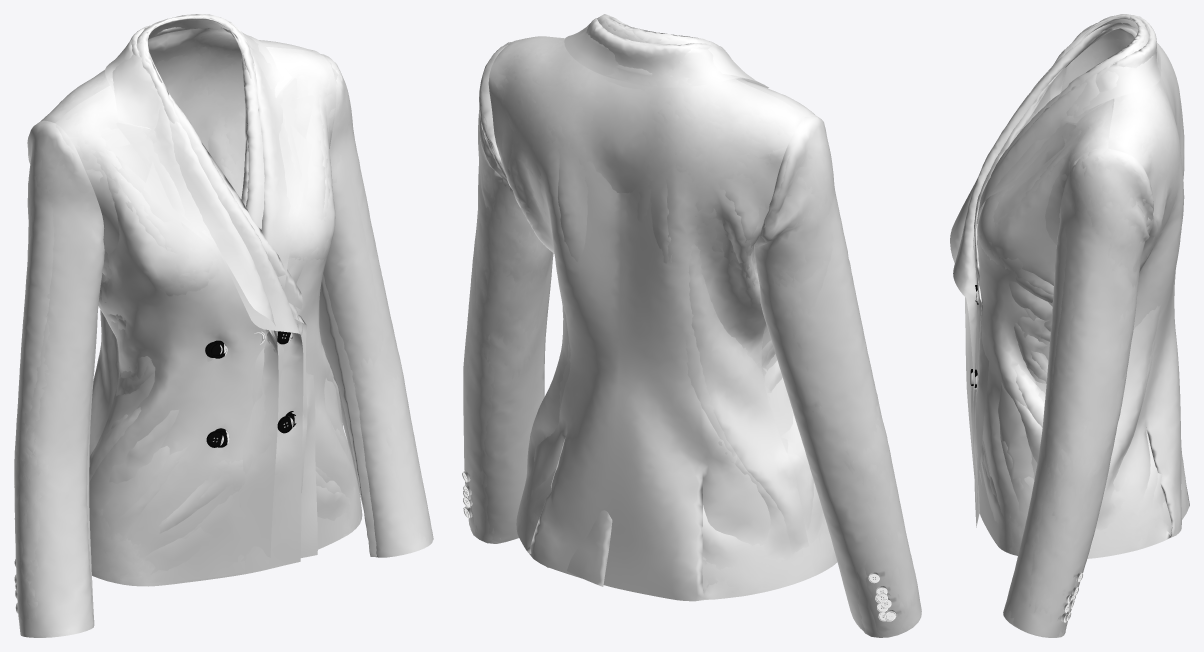
File: Womenjacket-transformed.glb
3 views of the same model, side by side, from view 1: azimuth 30°, elevation 25°; view 2: azimuth 150°, elevation 25°; view 3: azimuth 270°, elevation 25° (orthographic). The views are drawn at different scales.
Visible parts, largest first — view 1: front3, sleevefull2, sleevefull1, front6, front2, front4, front5, front1, sleevefull3, back2, back1, back3; view 2: back1, sleevefull1, back3, back2, sleevefull2, sleevefull3, front6, front3, front4, front2, front5; view 3: back1, sleevefull1, front3, sleevefull3, sleevefull2, front5, back2, front6, front2, back3, front4, front1.
Boxes of the visible parts, bbox=[...] form: front3: bbox=[64, 17, 362, 585]; sleevefull2: bbox=[14, 56, 432, 637]; sleevefull1: bbox=[14, 54, 433, 635]; front6: bbox=[87, 25, 359, 581]; front2: bbox=[66, 14, 361, 581]; front4: bbox=[86, 15, 361, 582]; front5: bbox=[55, 15, 361, 581]; front1: bbox=[65, 17, 361, 586]; sleevefull3: bbox=[14, 57, 426, 637]; back2: bbox=[45, 28, 306, 457]; back1: bbox=[42, 28, 321, 374]; back3: bbox=[41, 29, 316, 331]; back1: bbox=[489, 39, 814, 601]; sleevefull1: bbox=[462, 41, 919, 631]; back3: bbox=[488, 39, 813, 594]; back2: bbox=[490, 39, 813, 593]; sleevefull2: bbox=[462, 44, 921, 635]; sleevefull3: bbox=[463, 44, 918, 637]; front6: bbox=[559, 23, 821, 563]; front3: bbox=[531, 18, 837, 573]; front4: bbox=[581, 15, 832, 575]; front2: bbox=[510, 14, 835, 572]; front5: bbox=[509, 16, 836, 565]; back1: bbox=[1087, 26, 1184, 558]; sleevefull1: bbox=[1007, 29, 1154, 636]; front3: bbox=[953, 15, 1160, 555]; sleevefull3: bbox=[1029, 28, 1153, 637]; sleevefull2: bbox=[1003, 23, 1154, 637]; front5: bbox=[965, 16, 1144, 552]; back2: bbox=[1088, 26, 1180, 557]; front6: bbox=[950, 17, 1161, 550]; front2: bbox=[971, 14, 1157, 550]; back3: bbox=[1087, 26, 1189, 558]; front4: bbox=[965, 14, 1157, 553]; front1: bbox=[971, 17, 1139, 555].
Size of the model in its own units: 0.5369 by 0.6819 by 0.2845.
Materials: 12 (12 with a texture image).
